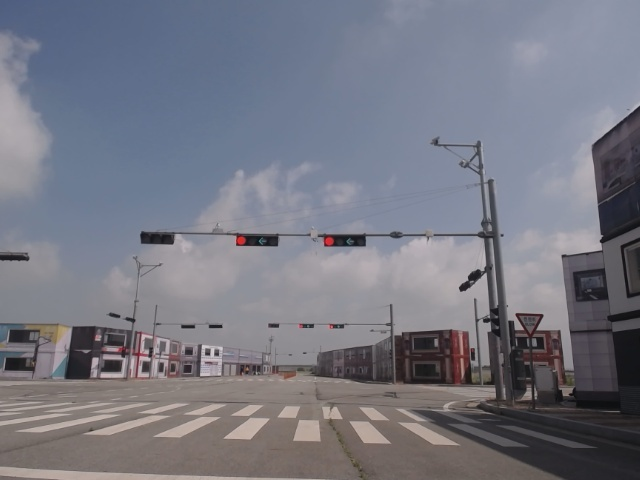left_green_4: (235, 234, 279, 247), (324, 234, 366, 247)
